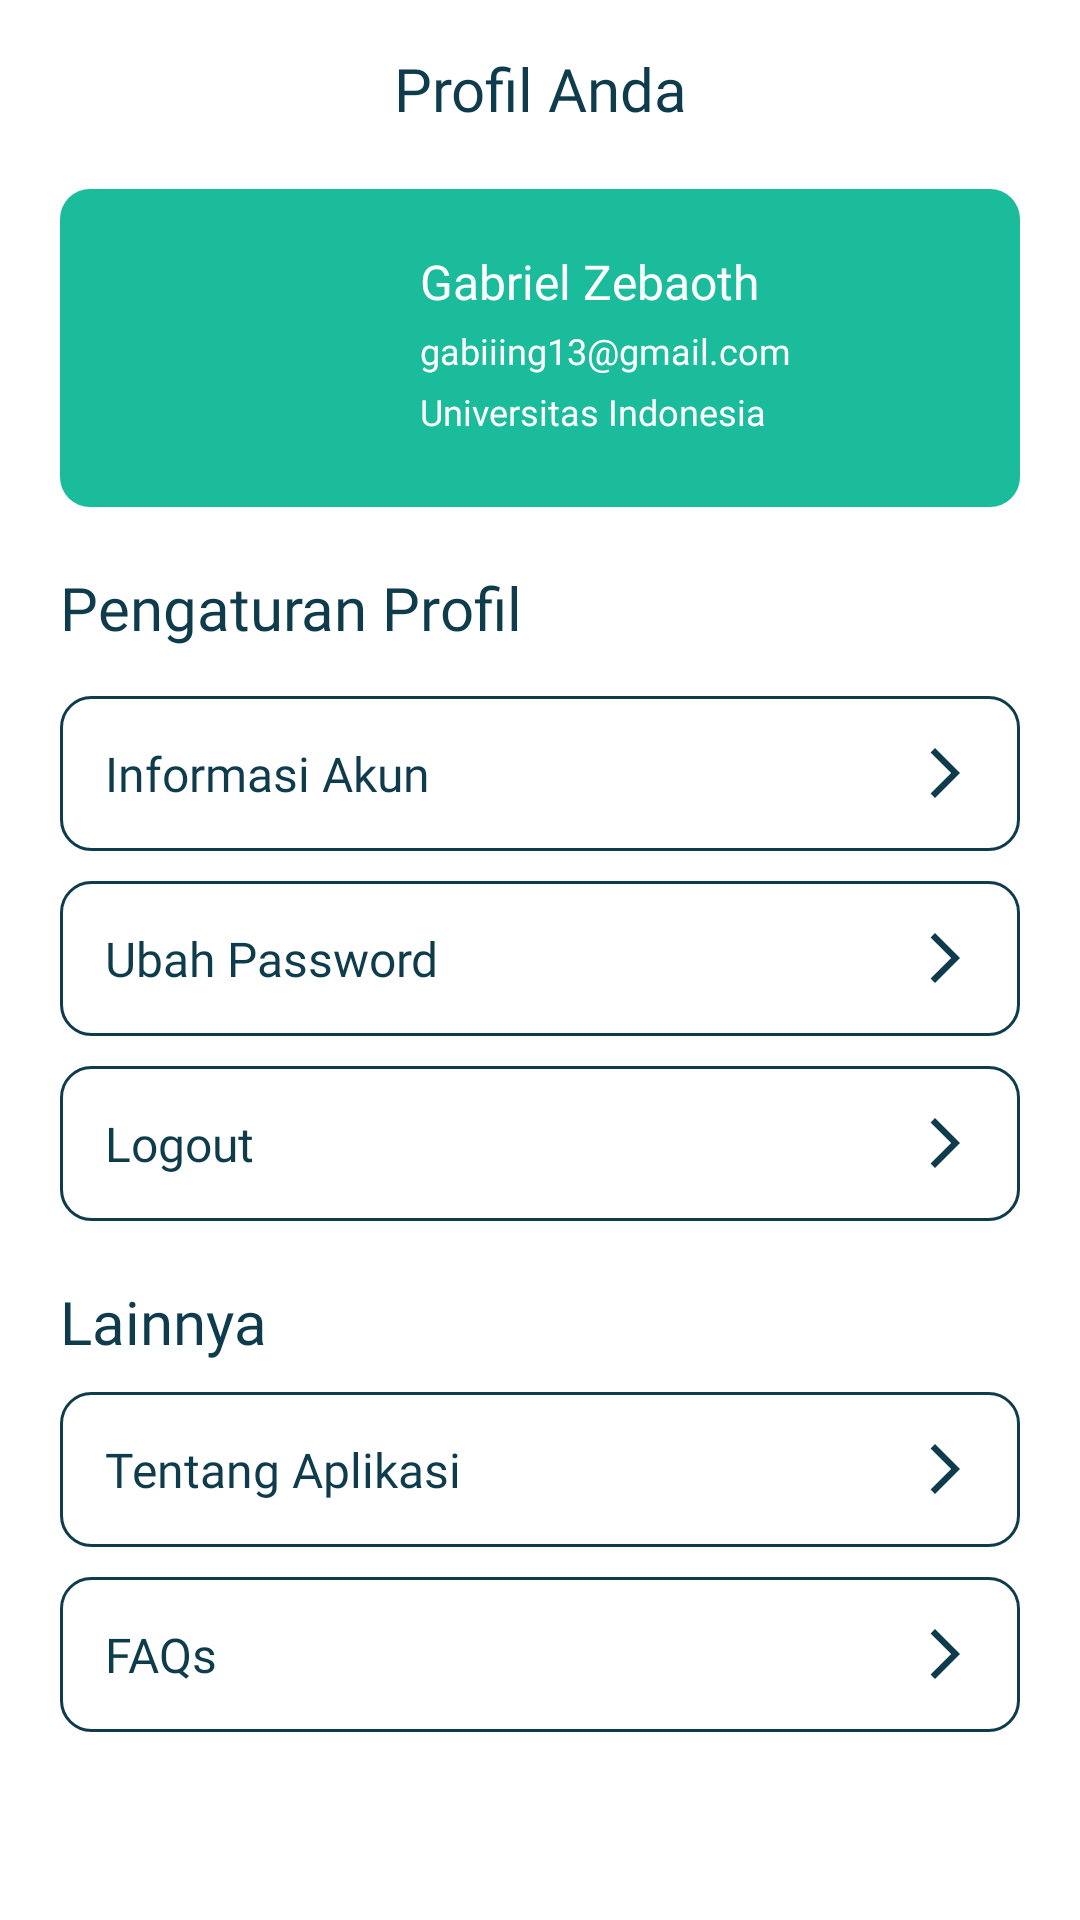

Icon bounding boxes for this 1080px x 1920px phone screenshot, format (x1, y1, x2, y2):
arrow: (930, 748, 960, 798), (930, 933, 960, 983), (930, 1118, 960, 1168), (930, 1444, 960, 1494), (930, 1629, 960, 1679)
